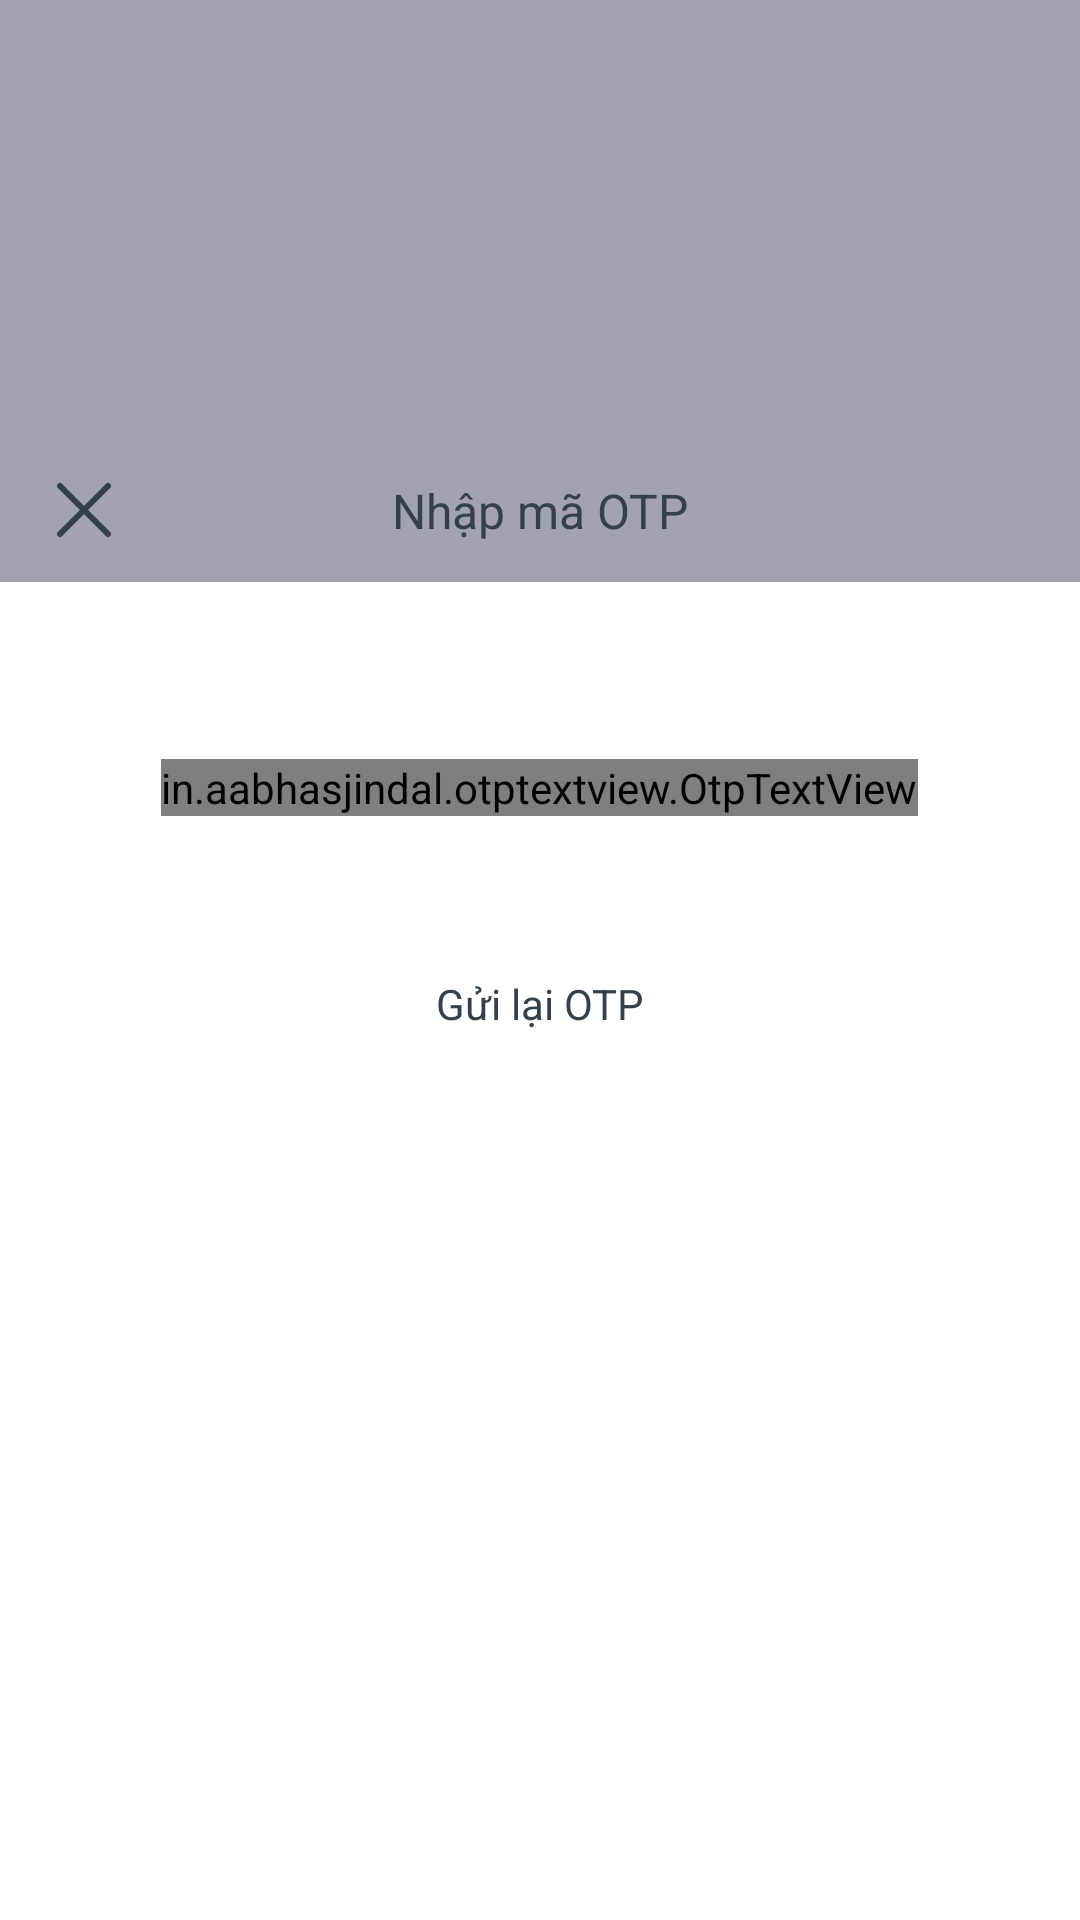

Icons on this 1080 x 1920 Android screen, each with the point to tap as point (x, y):
uiv closex: point (84, 510)
